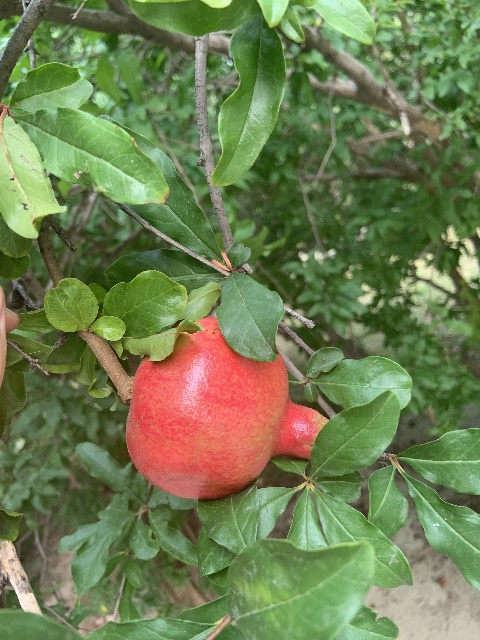ripe: (125, 315, 328, 500)
